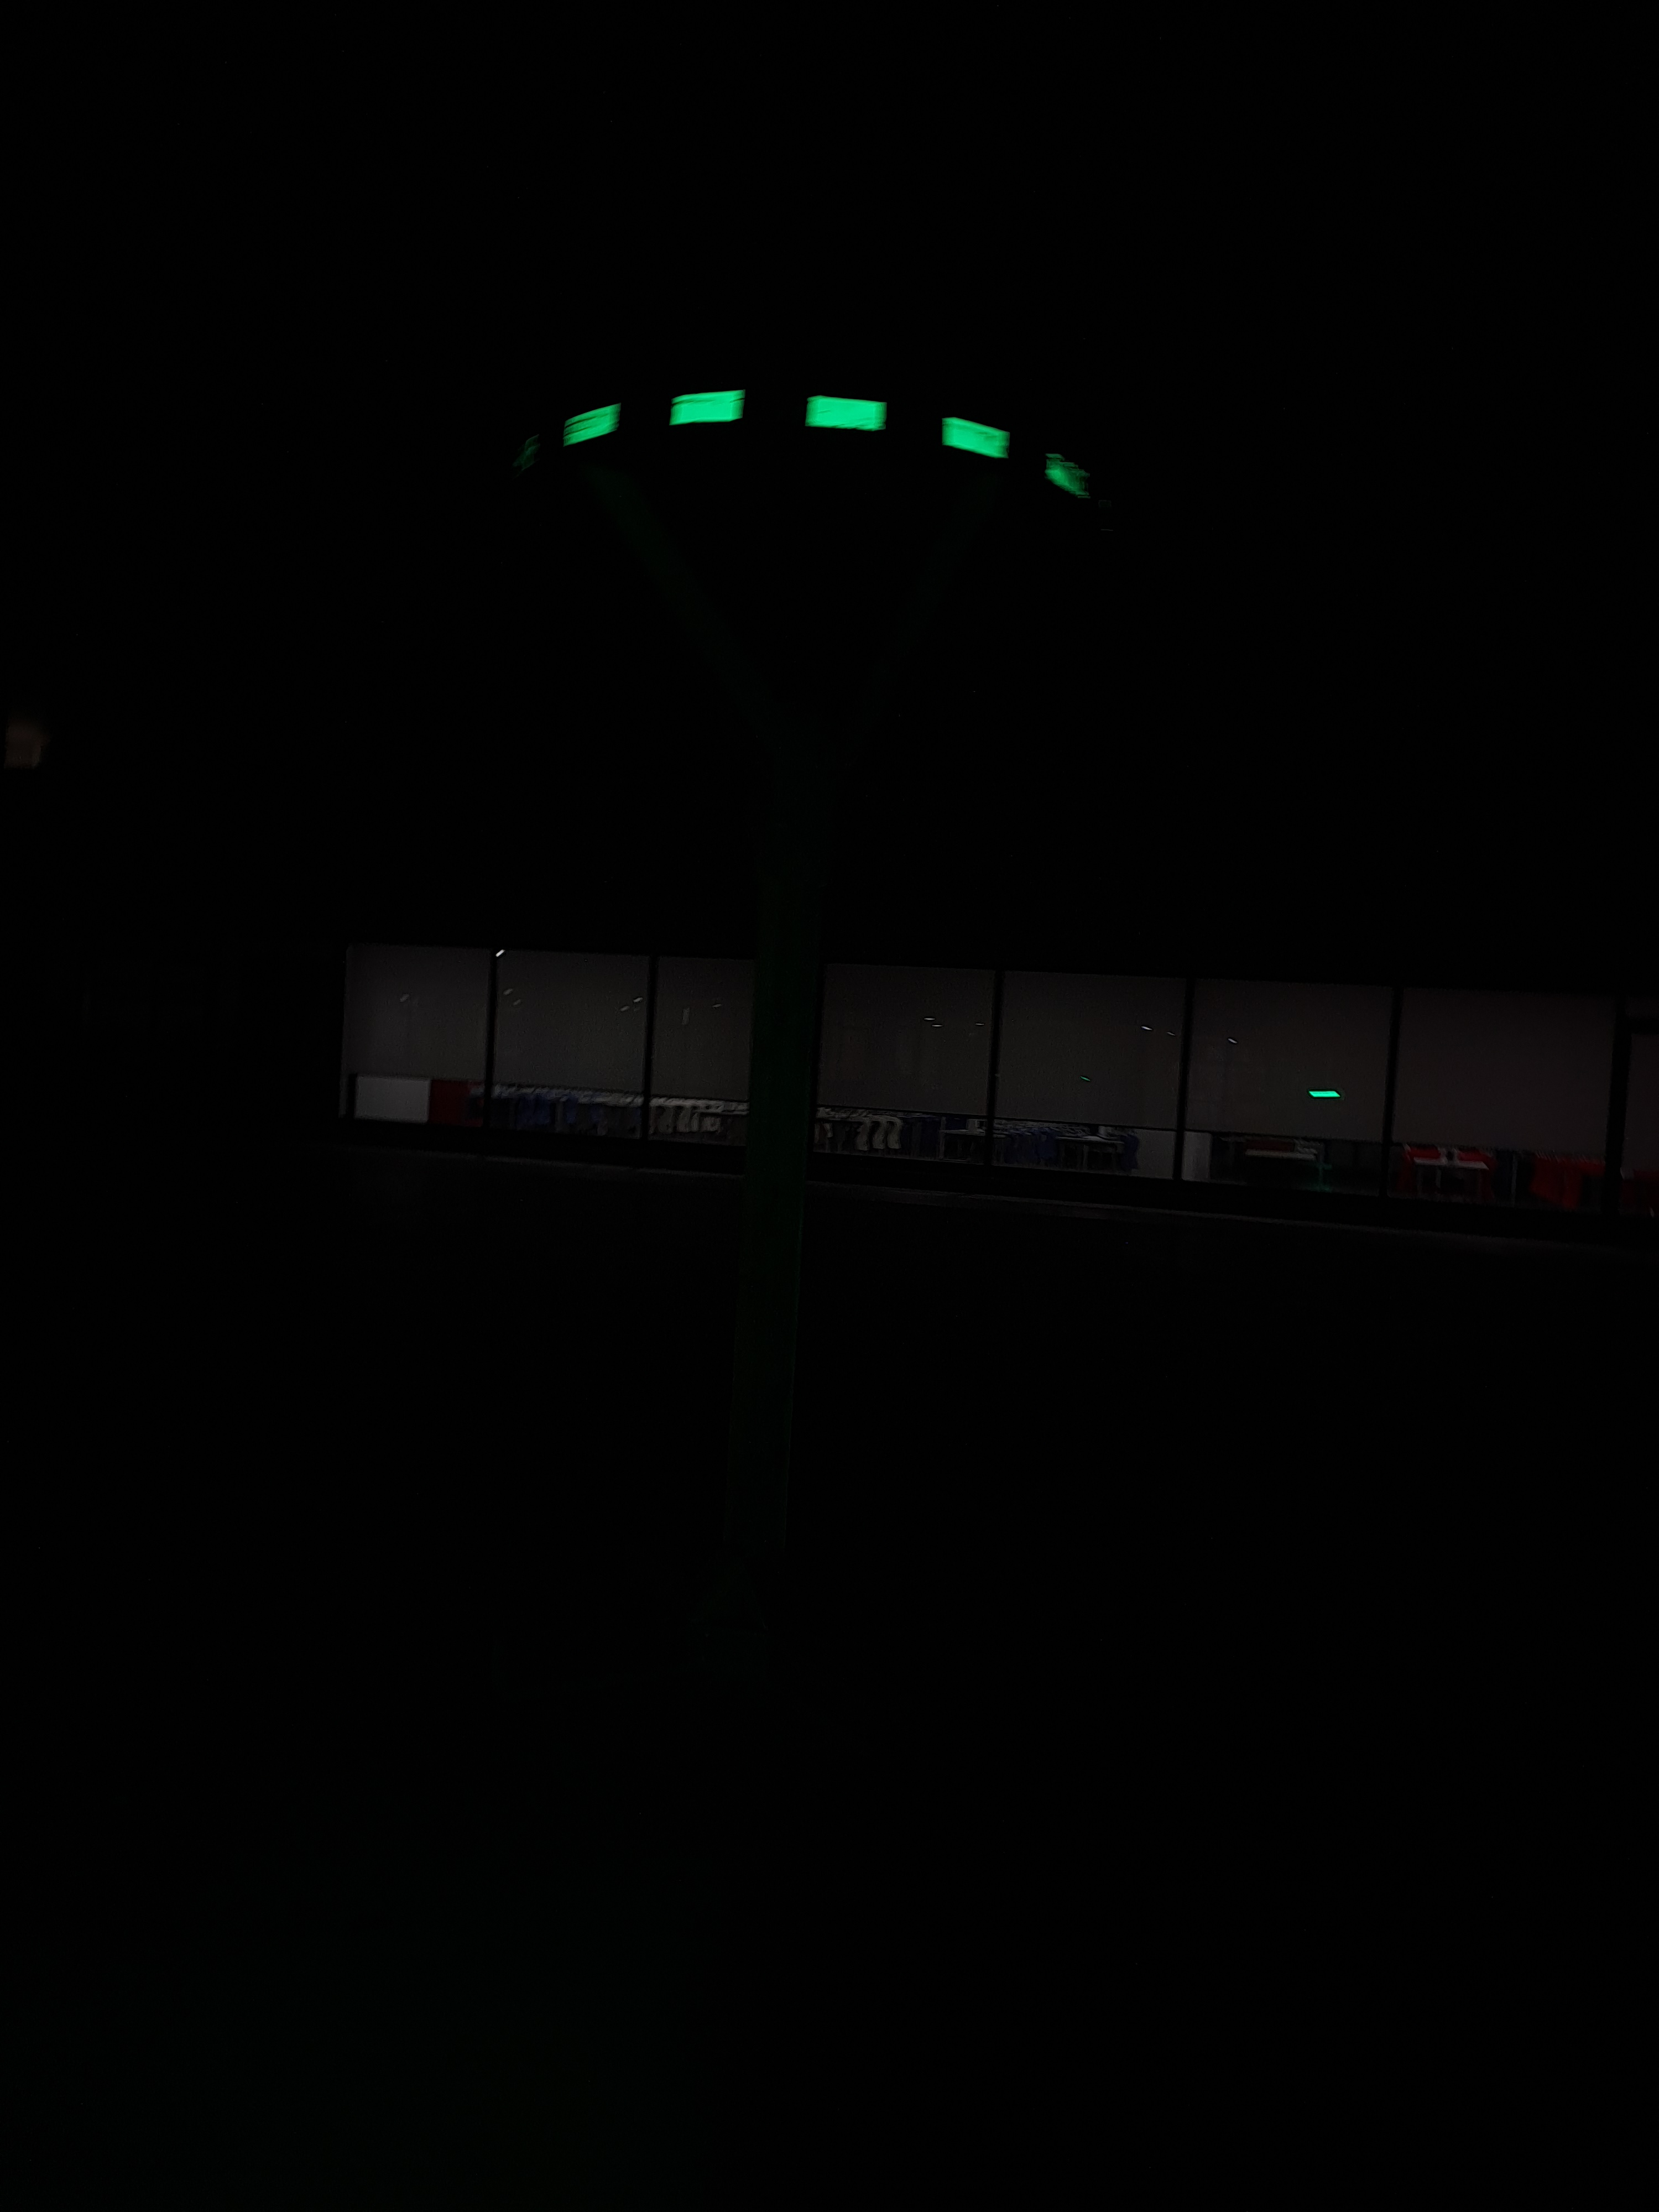hoop: (554, 385, 1098, 503)
